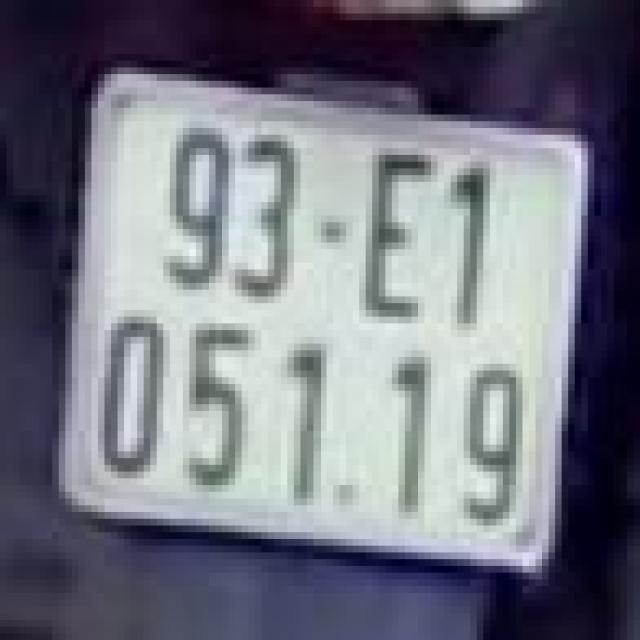0: (101, 313, 167, 482)
1: (440, 152, 500, 347), (274, 327, 333, 515), (382, 347, 441, 522)
3: (228, 132, 300, 314)
5: (180, 316, 258, 492)
9: (454, 360, 539, 542), (163, 118, 235, 306)
E: (359, 148, 438, 324)
